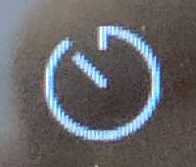timer: (9, 7, 196, 159)
